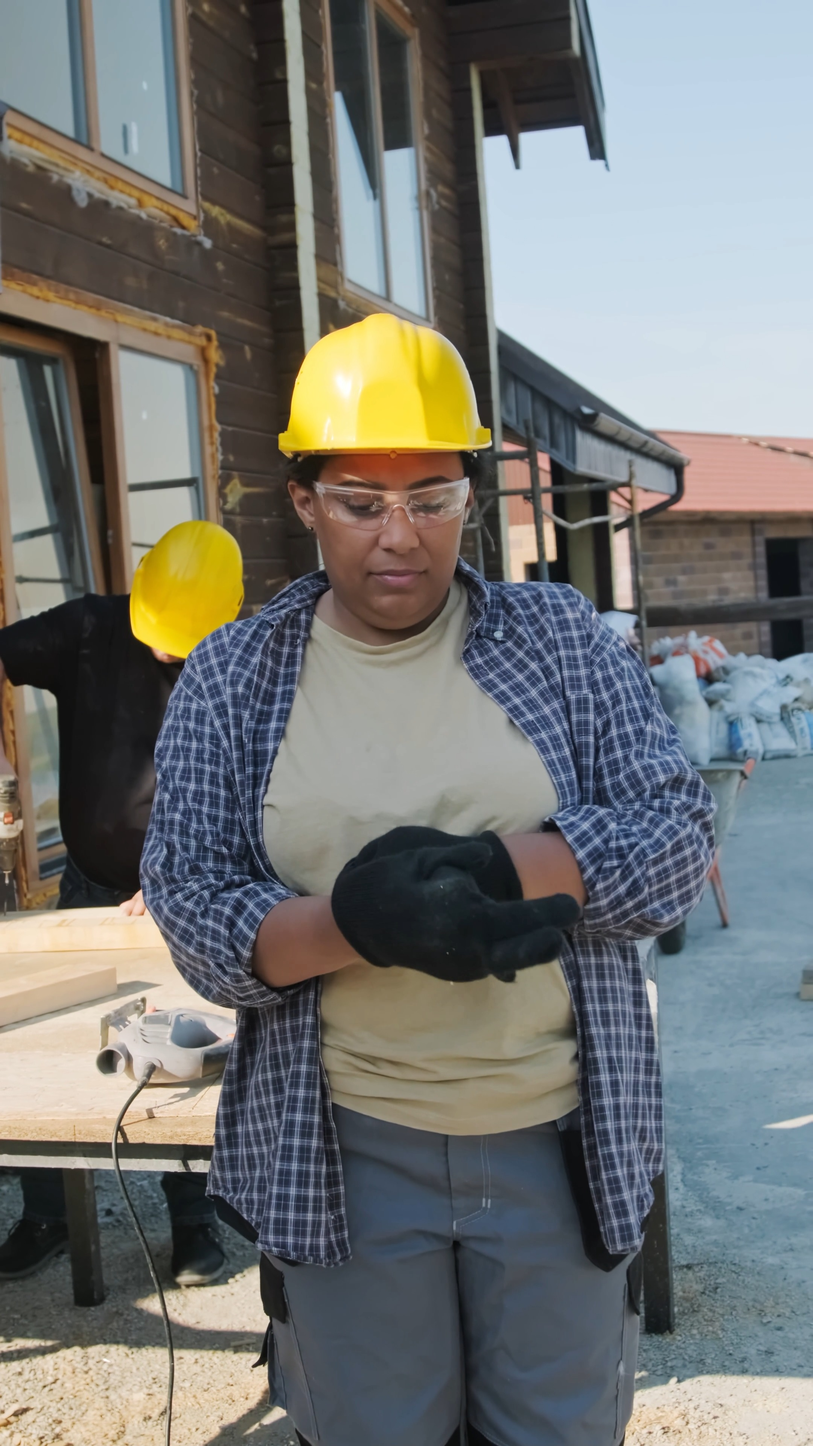gloves: (349, 871, 646, 1037), (386, 796, 534, 922)
